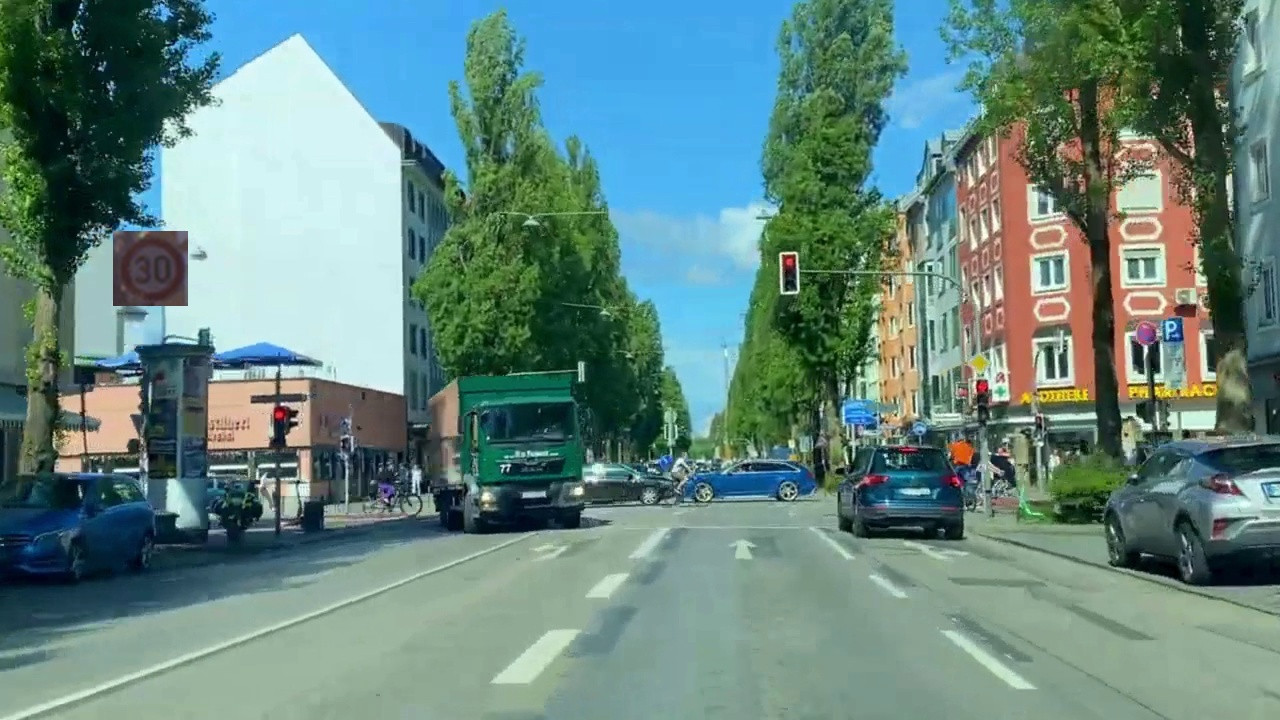Speed 30: (113, 231, 188, 306)
